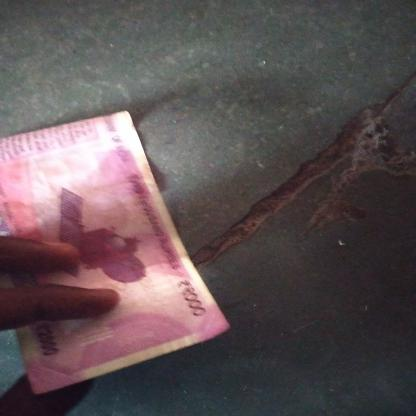New2000Back: (0, 114, 209, 364)
